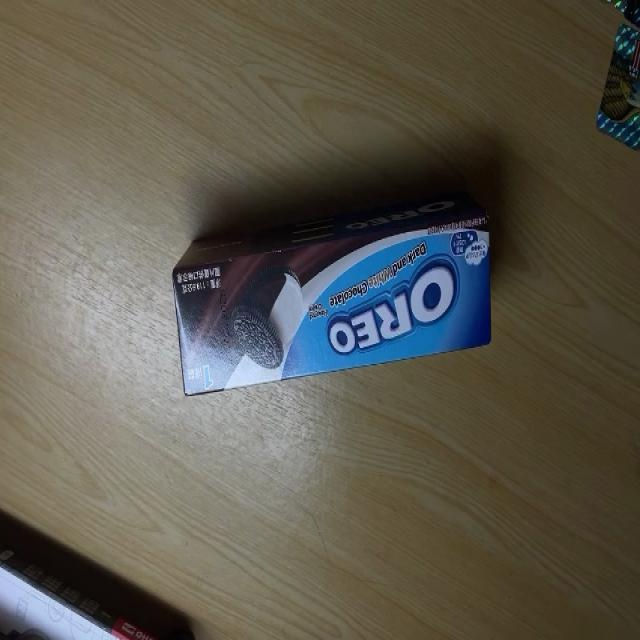Oreo: (172, 181, 492, 398)
